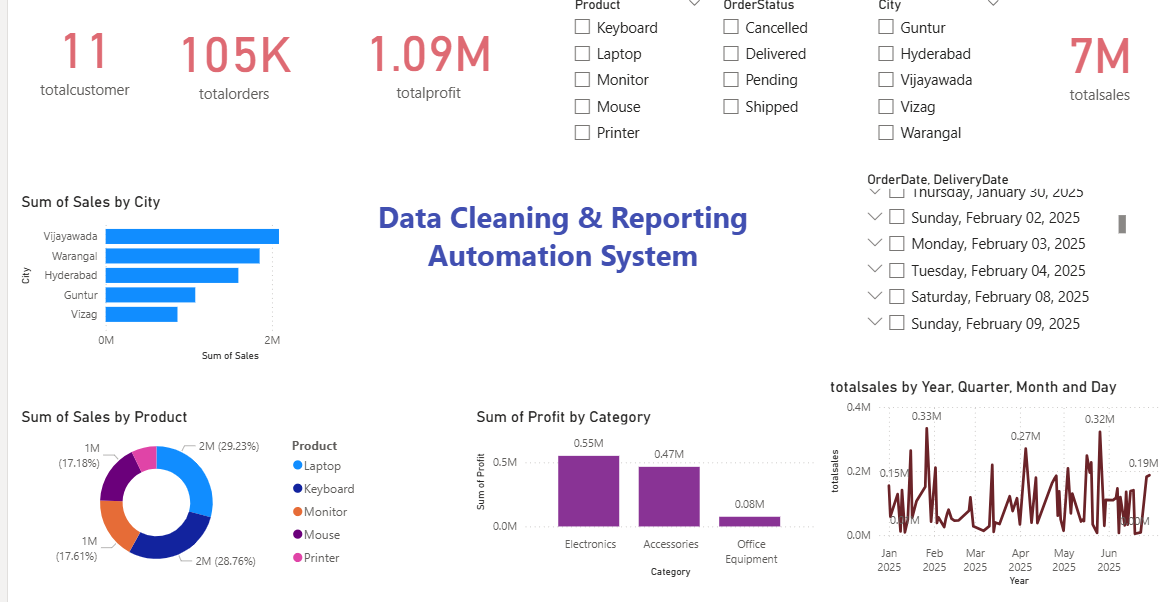

What the dashboard file says about the page in this screenshot:
{"tool":"powerbi","page":{"name":"Page 1","canvas":[1280,720],"ordinal":0},"visuals":[{"type":"card","fields":{"Values":["SalesData.totalcustomer"]},"box":[9.6,0,149.6,135.8],"z":0},{"type":"card","fields":{"Values":["SalesData.totalorders"]},"box":[159.2,0,178.4,145.5],"z":1},{"type":"card","fields":{"Values":["SalesData.totalprofit"]},"box":[369.1,4.1,185.2,135.8],"z":2},{"type":"card","fields":{"Values":["SalesData.totalsales"]},"box":[1117,0,163.3,148.2],"z":3},{"type":"clusteredBarChart","fields":{"Category":["SalesData.City"],"Y":["Sum(SalesData.Sales)"]},"box":[9.6,219.6,385.6,190.7],"z":4},{"type":"donutChart","fields":{"Category":["SalesData.Product"],"Y":["Sum(SalesData.Sales)"]},"box":[10,455.5,386,191],"z":5},{"type":"columnChart","fields":{"Category":["SalesData.Category"],"Y":["Sum(SalesData.Profit)"]},"box":[509.1,455.6,382.8,192.1],"z":6},{"type":"lineChart","fields":{"Y":["SalesData.totalsales"],"Category":["SalesData.OrderDate.Variation.Date Hierarchy.Year","SalesData.OrderDate.Variation.Date Hierarchy.Quarter","SalesData.OrderDate.Variation.Date Hierarchy.Month","SalesData.OrderDate.Variation.Date Hierarchy.Day"]},"box":[897.4,422.6,382.8,234.6],"z":7},{"type":"slicer","fields":{"Values":["SalesData.City"]},"box":[942.7,0,157.8,192.1],"z":8},{"type":"slicer","fields":{"Values":["SalesData.Product"]},"box":[609.3,0,163.3,192.1],"z":9},{"type":"slicer","fields":{"Values":["SalesData.OrderStatus"]},"box":[772.6,0,157.8,192.1],"z":10},{"type":"slicer","fields":{"Values":["SalesData.OrderDate","SalesData.DeliveryDate"]},"box":[930.4,192.1,301.9,192.1],"z":11},{"type":"textbox","box":[326.6,219.6,565.4,123.5],"z":12}]}

Visuals, with their boxes on the page's 1280x720 design canvas (x1, y1, x2, y2). These are canvas units, not pixel positions in the 1170x602 screenshot, which may show the page scaled, cropped or inside an application window:
card - SalesData.totalcustomer: box=[10, 0, 159, 136]
card - SalesData.totalorders: box=[159, 0, 338, 146]
card - SalesData.totalprofit: box=[369, 4, 554, 140]
card - SalesData.totalsales: box=[1117, 0, 1280, 148]
clusteredBarChart - SalesData.City x Sum(SalesData.Sales): box=[10, 220, 395, 410]
donutChart - SalesData.Product x Sum(SalesData.Sales): box=[10, 456, 396, 646]
columnChart - SalesData.Category x Sum(SalesData.Profit): box=[509, 456, 892, 648]
lineChart - SalesData.totalsales x SalesData.OrderDate.Variation.Date Hierarchy.Year: box=[897, 423, 1280, 657]
slicer - SalesData.City: box=[943, 0, 1100, 192]
slicer - SalesData.Product: box=[609, 0, 773, 192]
slicer - SalesData.OrderStatus: box=[773, 0, 930, 192]
slicer - SalesData.OrderDate x SalesData.DeliveryDate: box=[930, 192, 1232, 384]
textbox: box=[327, 220, 892, 343]
